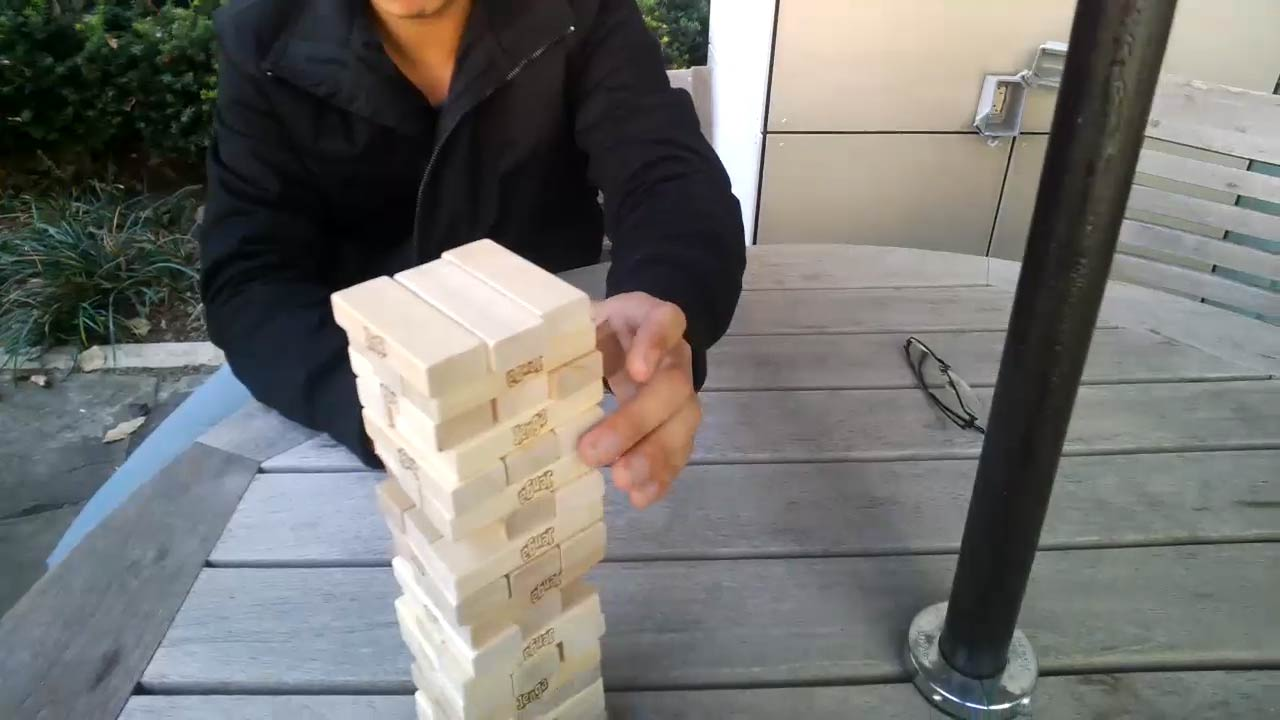hand: (590, 296, 695, 496)
